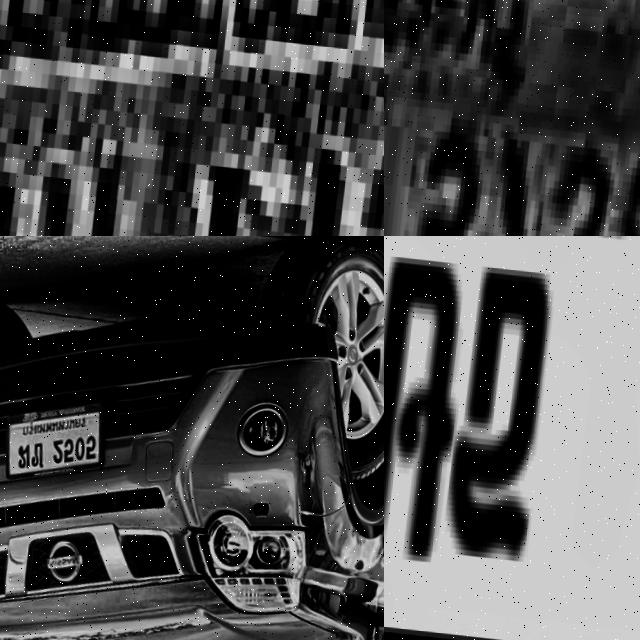license-plate: (384, 236, 640, 640), (0, 0, 384, 236), (384, 0, 640, 236), (0, 385, 116, 491)
